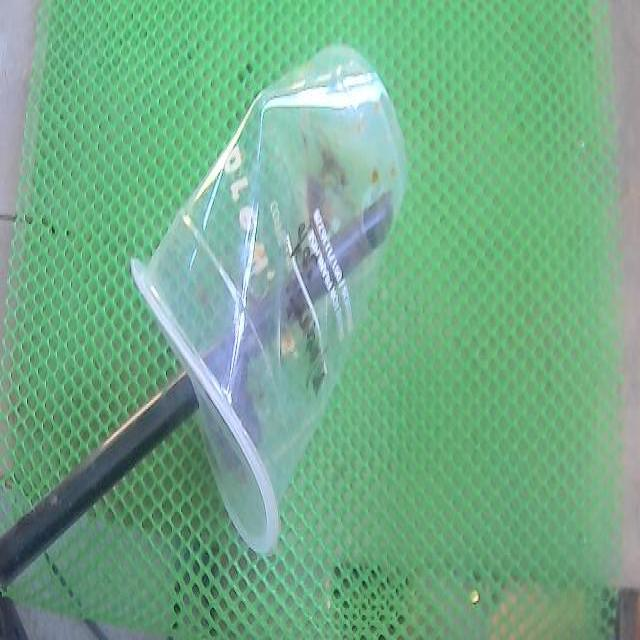bottle: (131, 49, 405, 554)
